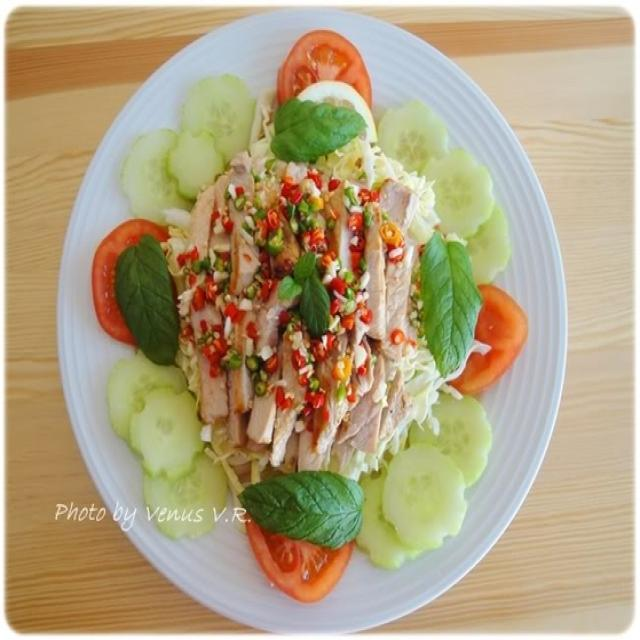猪肉菜式: (47, 16, 569, 628)
